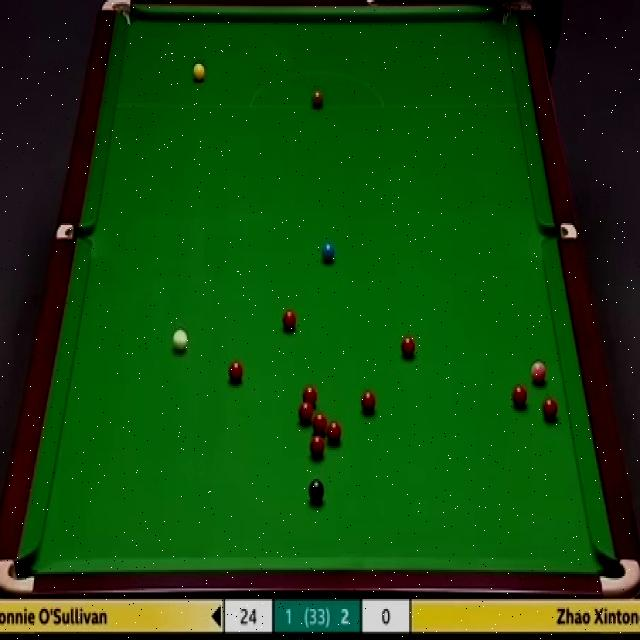black-ball: (308, 479, 324, 505)
blue-ball: (321, 240, 336, 262)
brown-ball: (311, 88, 324, 110)
pink-ball: (530, 359, 546, 386)
red-ball: (227, 359, 245, 387), (360, 389, 377, 414), (513, 384, 530, 409), (327, 422, 342, 446), (282, 310, 298, 332), (543, 398, 558, 421), (310, 436, 324, 459), (401, 336, 414, 359), (312, 416, 329, 433), (301, 386, 318, 402), (298, 401, 313, 417)
white-ball: (171, 329, 187, 354)
yellow-ball: (193, 64, 206, 85)
